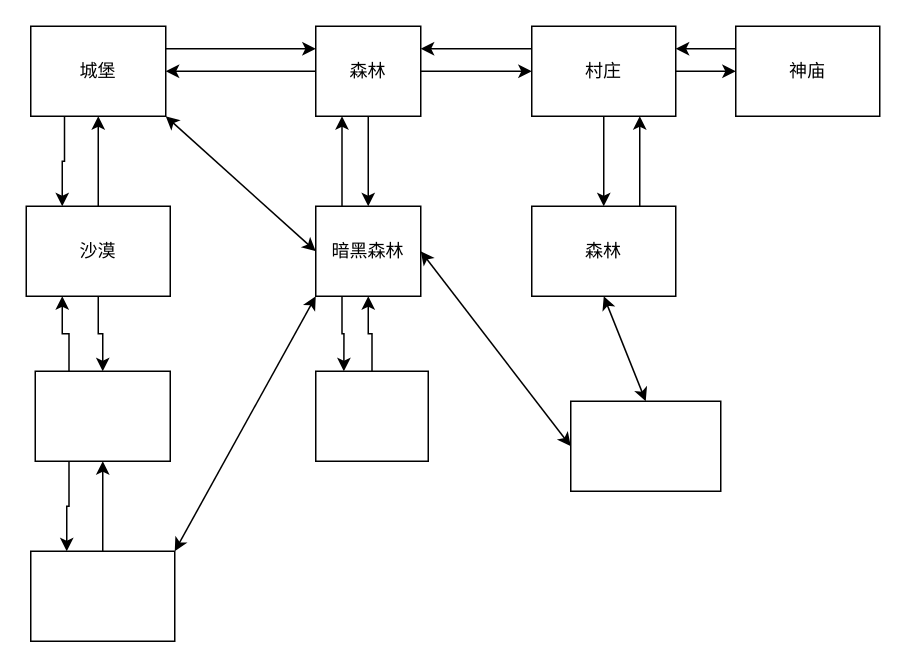
Image size: 906x668. Some labels were removed from this diagram. Each missing label, with the centre of its shape:
"地下城" goes at [371,415].
"宝石村庄" goes at [102,595].
"渔村" goes at [645,445].
"矿洞" goes at [102,415].
